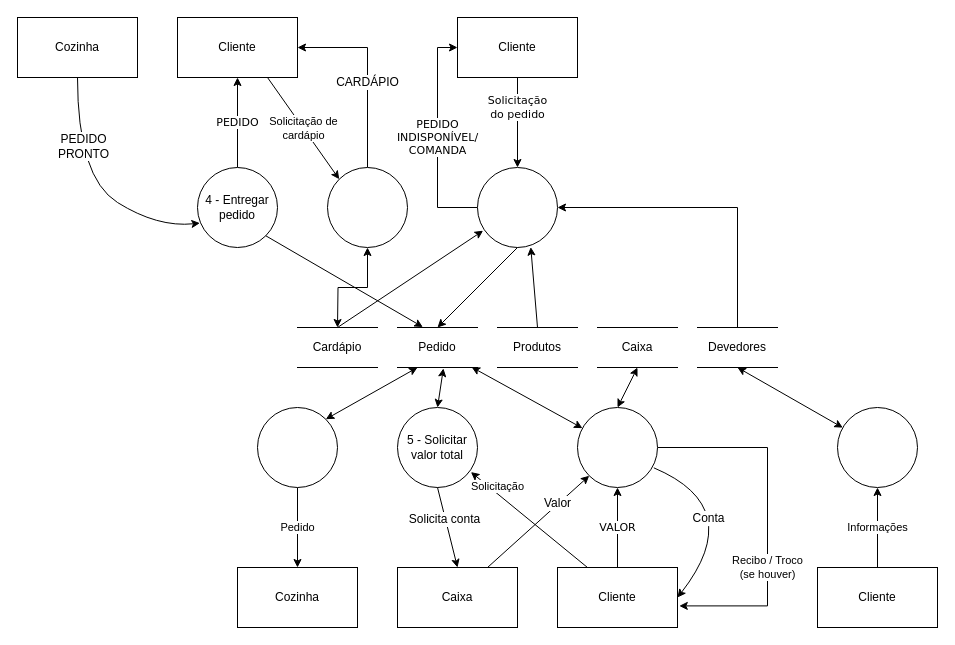
This 955x645 diagram has some shape labels left out. Here are the shapes that lost their labels. From the top down, the box of each, then its label:
(326, 166, 408, 248): 1 - Entregar Cardápio
(476, 166, 558, 248): 2 - Anotar Pedido
(256, 406, 338, 488): 3 - Solicitar preparo
(576, 406, 658, 488): 6 - Receber pagamento
(836, 406, 918, 488): 7 - Registrar devedor
